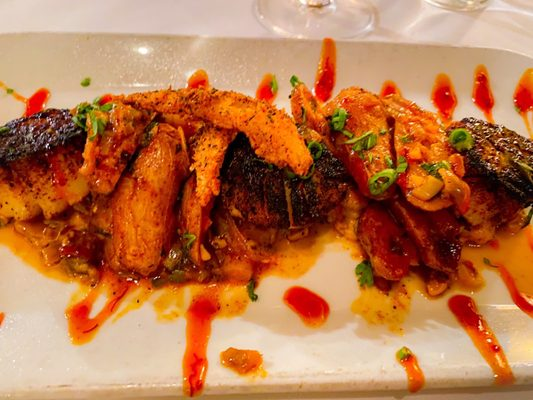curry: (0, 0, 533, 400)
sandwich: (254, 0, 378, 40)
